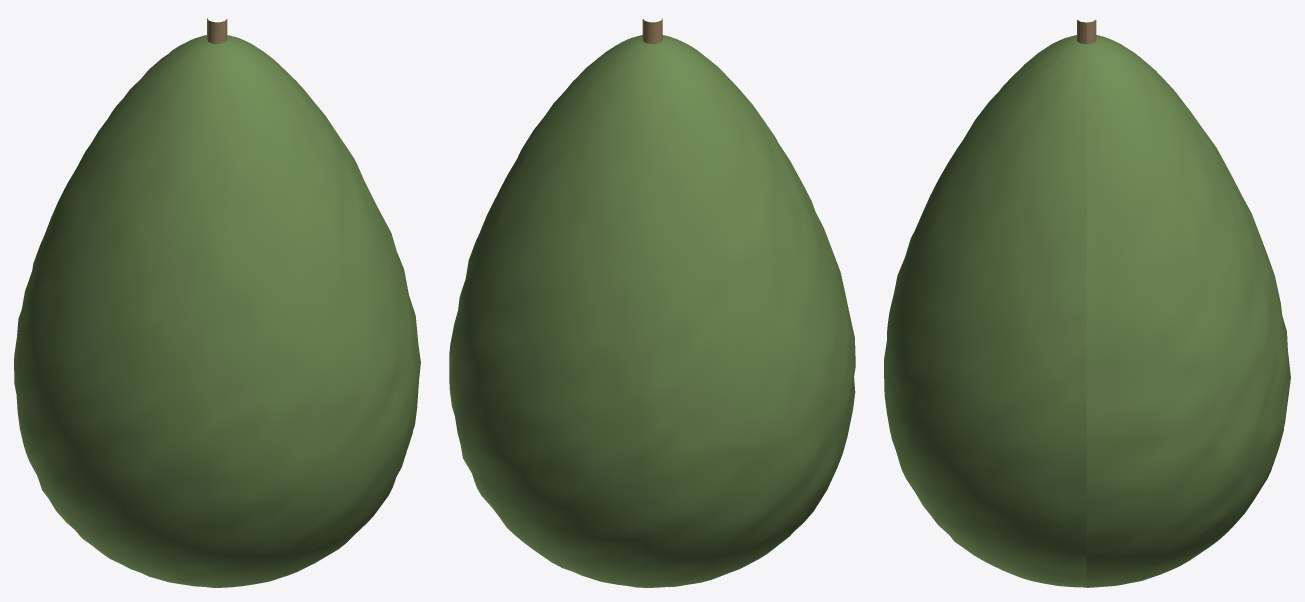
Rendered from abacate.glb.
The picture shows the model from 3 angles, left to right: view 1: azimuth 30°, elevation 25°; view 2: azimuth 150°, elevation 25°; view 3: azimuth 270°, elevation 25°; orthographic projection.
Parts seen in each view (by area): view 1: abacate; view 2: abacate; view 3: abacate.
Boxes of the visible parts, <box> form: abacate: <box>14,18,420,587</box>; abacate: <box>449,18,855,587</box>; abacate: <box>884,20,1290,587</box>.
Size of the model in its own units: 1.61 by 2.39 by 1.6.
